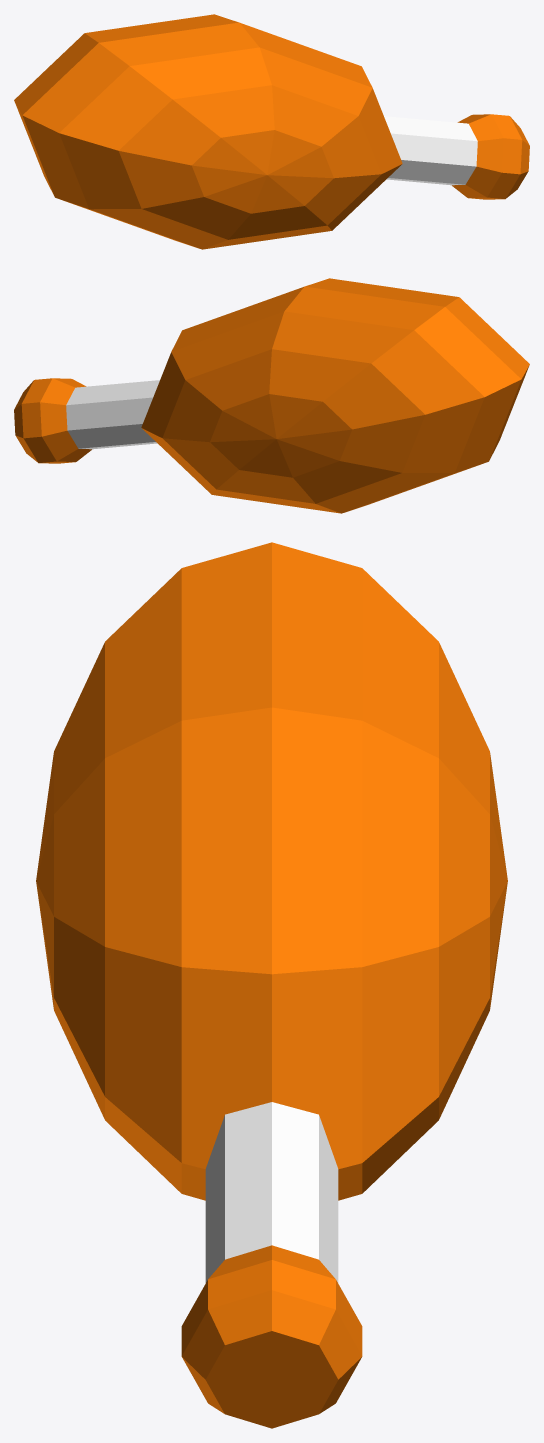
The model's file is chicken2.fbx.
3 views of the same model, one above another, from view 1: azimuth 30°, elevation 25°; view 2: azimuth 150°, elevation 25°; view 3: azimuth 270°, elevation 25° (orthographic). The views are drawn at different scales.
Visible parts, largest first — view 1: mChicken leg; view 2: mChicken leg; view 3: mChicken leg.
Boxes of the visible parts, x1,y1,x2,y2 form: mChicken leg: (14,14,529,249); mChicken leg: (14,278,529,513); mChicken leg: (36,542,507,1428).
Bounding box in the file's own units: 45.89 × 22.12 × 18.82.
